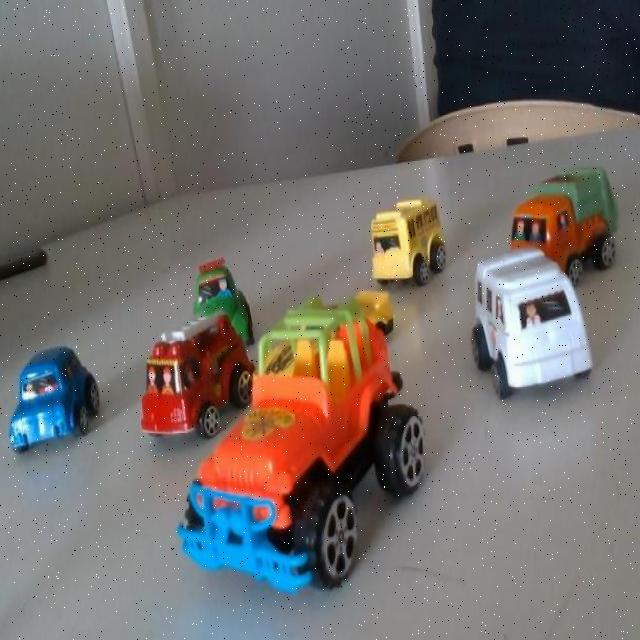car: (166, 409, 316, 595), (242, 285, 376, 415), (461, 257, 577, 383), (0, 334, 101, 472), (495, 165, 597, 288), (132, 318, 220, 452), (177, 262, 240, 350), (361, 197, 420, 283)
